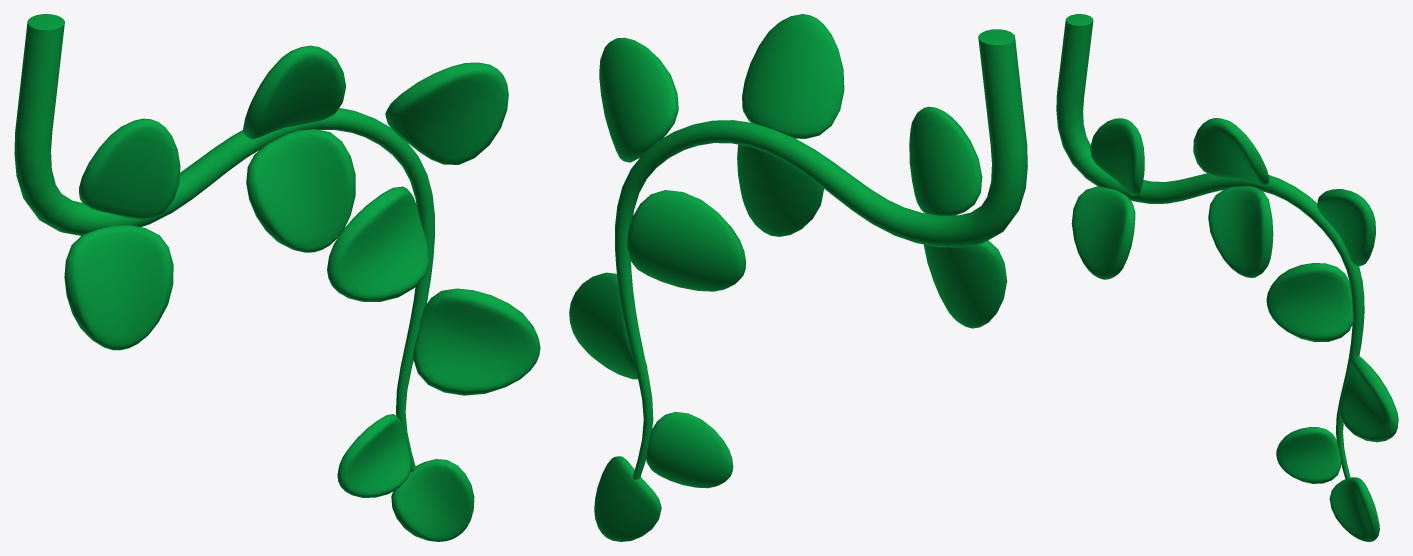
Rendered from Town_11_Liana_2.glb.
3 views of the same model, side by side, from view 1: azimuth 30°, elevation 25°; view 2: azimuth 150°, elevation 25°; view 3: azimuth 330°, elevation 25° (orthographic). The views are drawn at different scales.
Parts seen in each view (by area): view 1: Town_11_Liana_2; view 2: Town_11_Liana_2; view 3: Town_11_Liana_2.
Boxes of the visible parts, x1=… form: Town_11_Liana_2: x1=14, y1=14, x2=540, y2=541; Town_11_Liana_2: x1=569, y1=14, x2=1027, y2=541; Town_11_Liana_2: x1=1056, y1=14, x2=1398, y2=541.
Size of the model in its own units: 2.3 by 2.72 by 0.367.
1 material, 1 textured.
